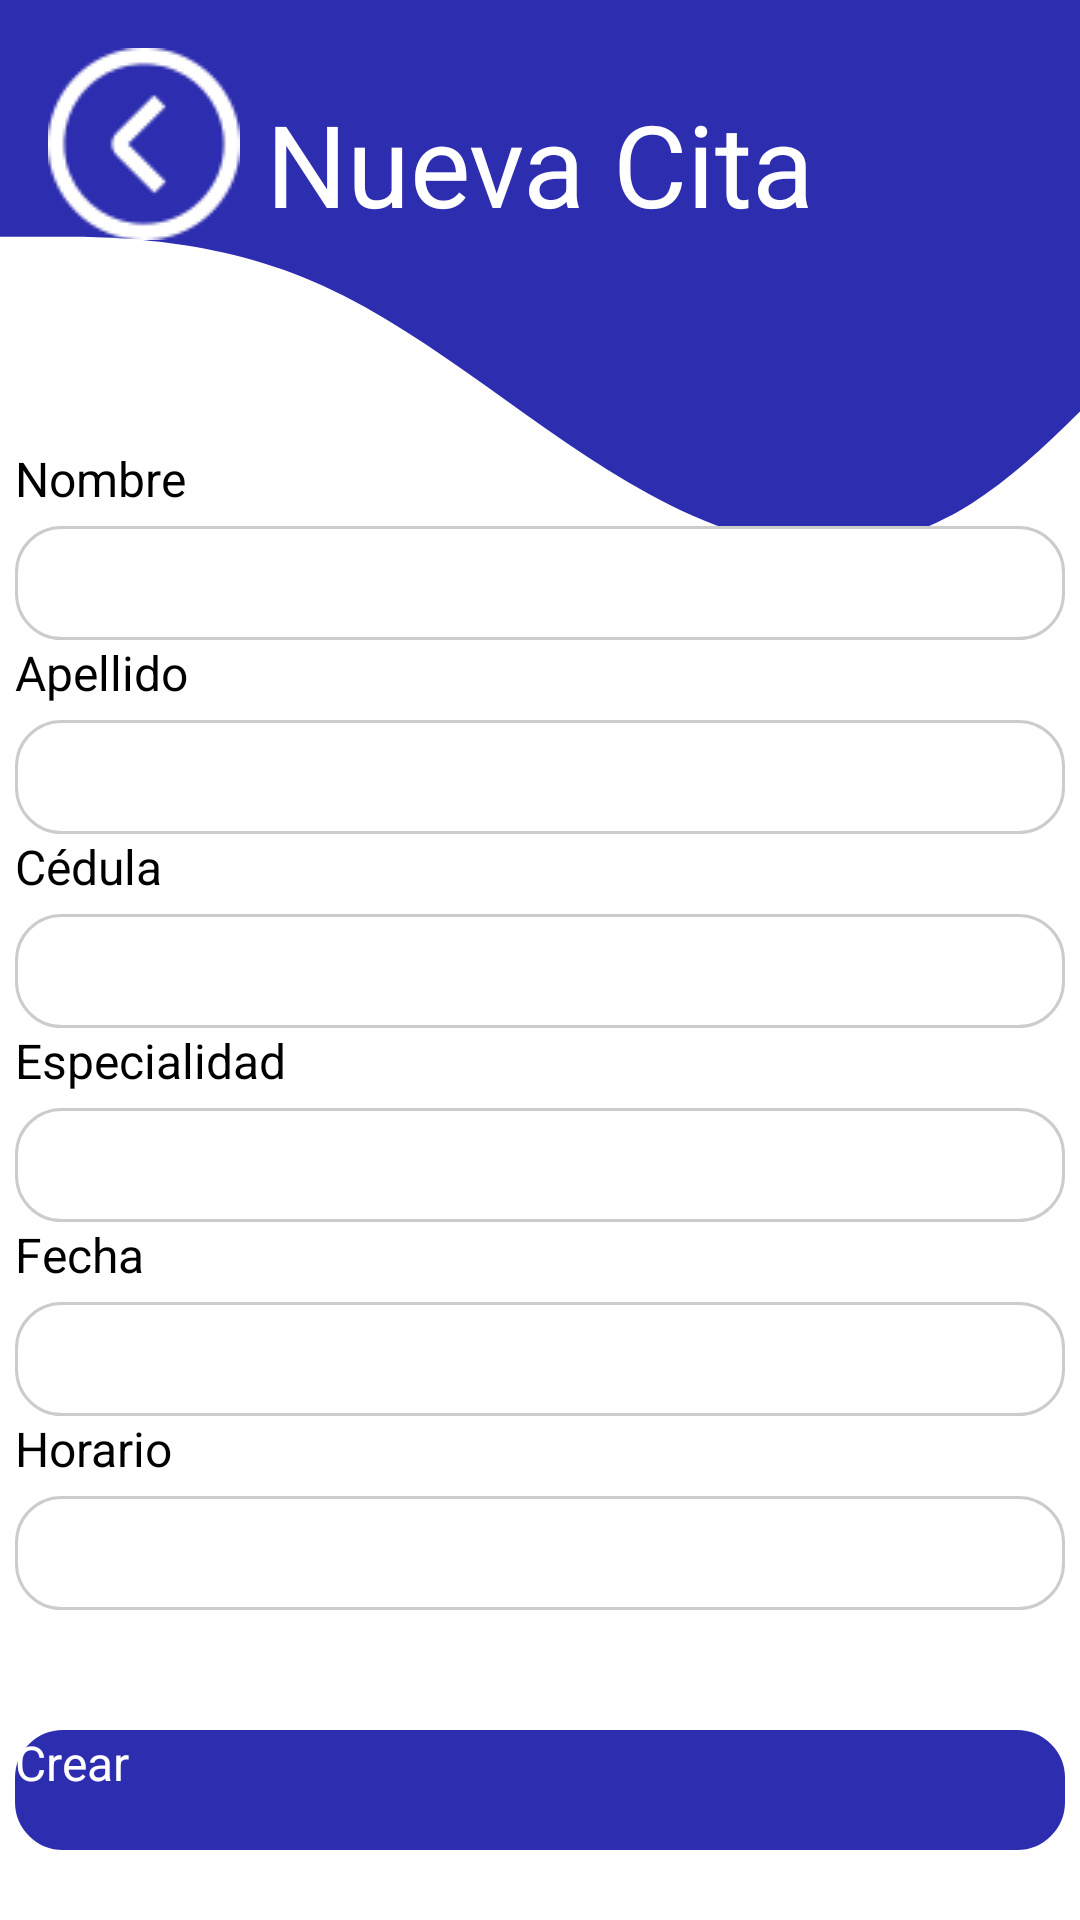

Named icons in this screenshot (1080×1920) and their centers, [x,y]:
backcircle: [144,144]
